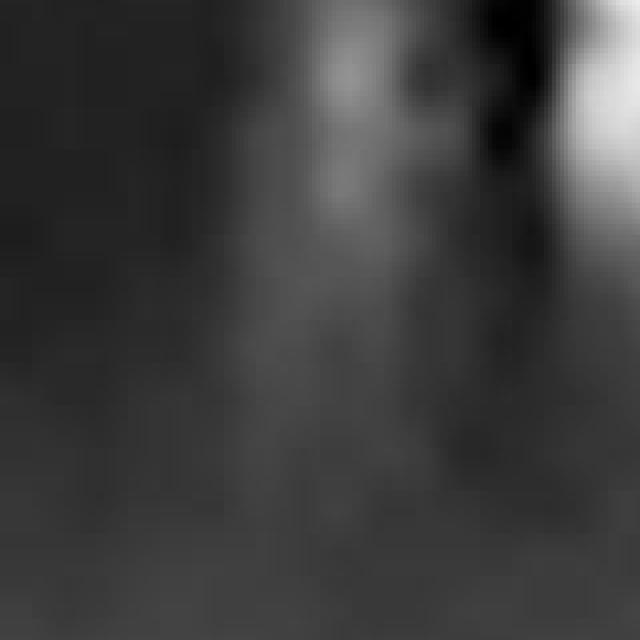person: (245, 1, 473, 433), (541, 1, 640, 353)
